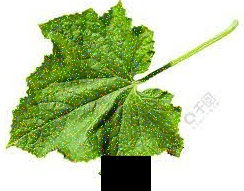cucumber_plant: (11, 9, 239, 184)
